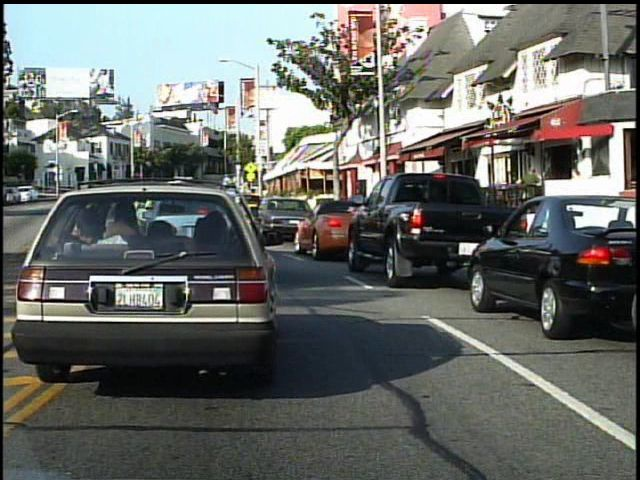person: (519, 160, 545, 223)
